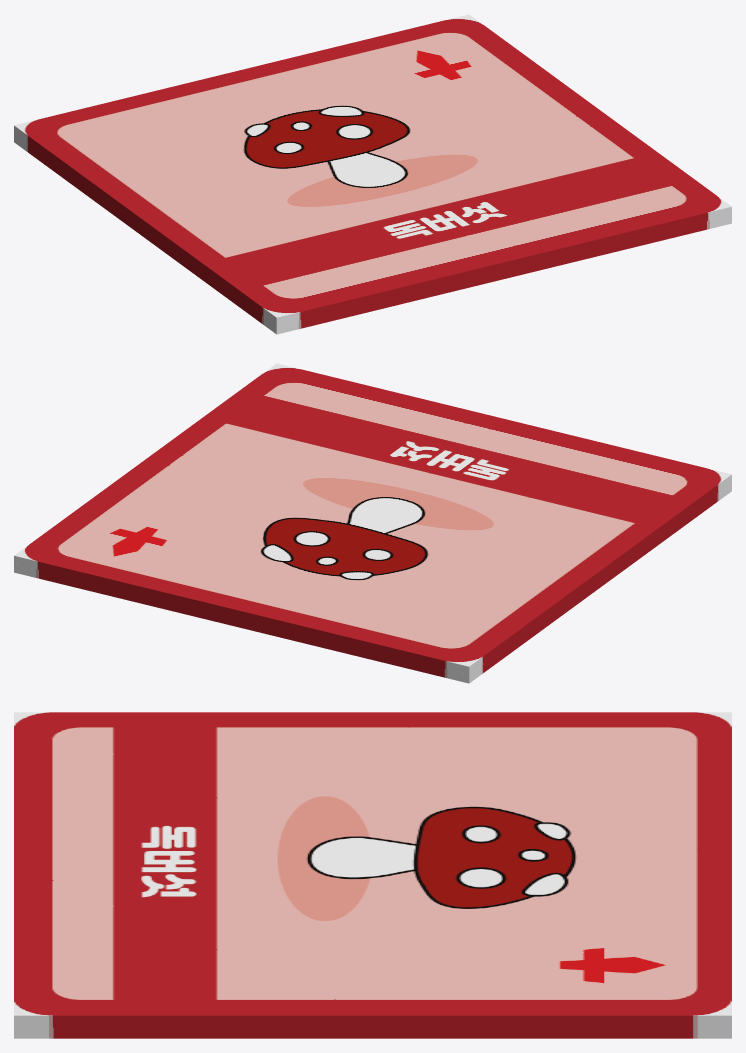
The model's file is ToadstoolCard.fbx.
3 renders of one model, top to bottom at view 1: azimuth 30°, elevation 25°; view 2: azimuth 150°, elevation 25°; view 3: azimuth 270°, elevation 25°, orthographic. The views are drawn at different scales.
Parts seen in each view (by area): view 1: Front, Back; view 2: Front, Back; view 3: Front, Back.
Part boxes in pixels (x1,y1,x2,y2): Front: (14, 14, 731, 325); Back: (14, 134, 731, 334); Front: (14, 363, 731, 674); Back: (14, 483, 731, 683); Front: (14, 712, 731, 1027); Back: (14, 1027, 731, 1038).
Size of the model in its own units: 4.06 by 0.1436 by 4.06.
